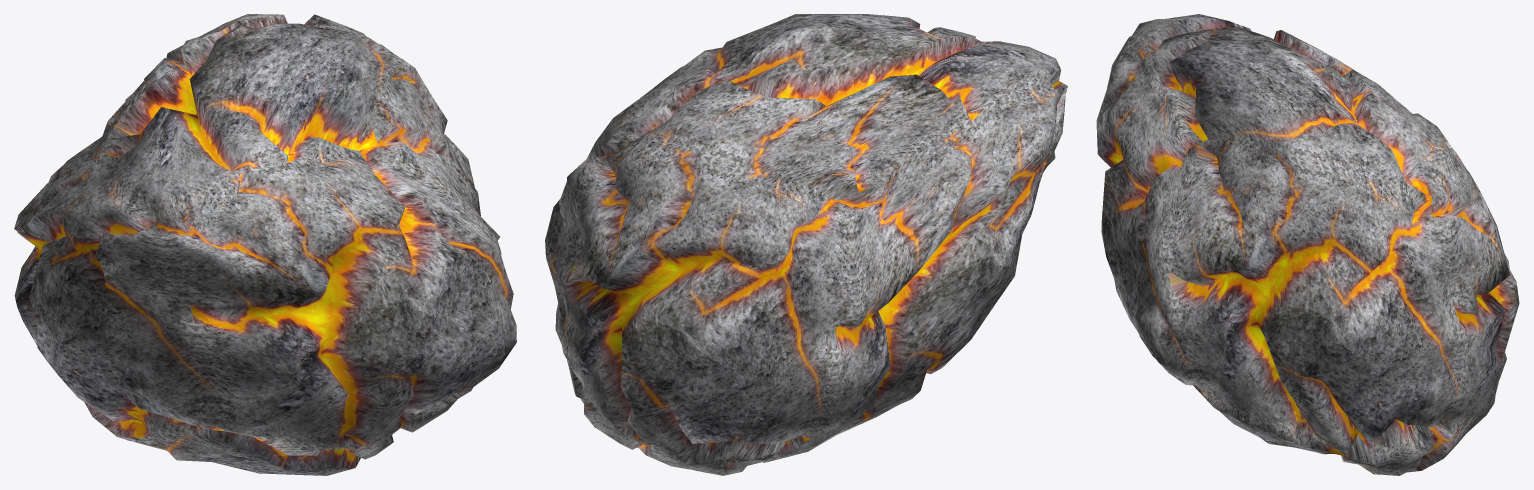
Rendered from Asteroid_07_L0.FBX.
3 views of the same model, side by side, from view 1: azimuth 30°, elevation 25°; view 2: azimuth 150°, elevation 25°; view 3: azimuth 270°, elevation 25° (orthographic). The views are drawn at different scales.
Visible parts, largest first — view 1: Asteroid; view 2: Asteroid; view 3: Asteroid.
Part boxes in pixels (x1,y1,x2,y2): Asteroid: (14,14,516,475); Asteroid: (545,14,1067,475); Asteroid: (1096,14,1519,475).
Size of the model in its own units: 3 by 2.75 by 2.82.
